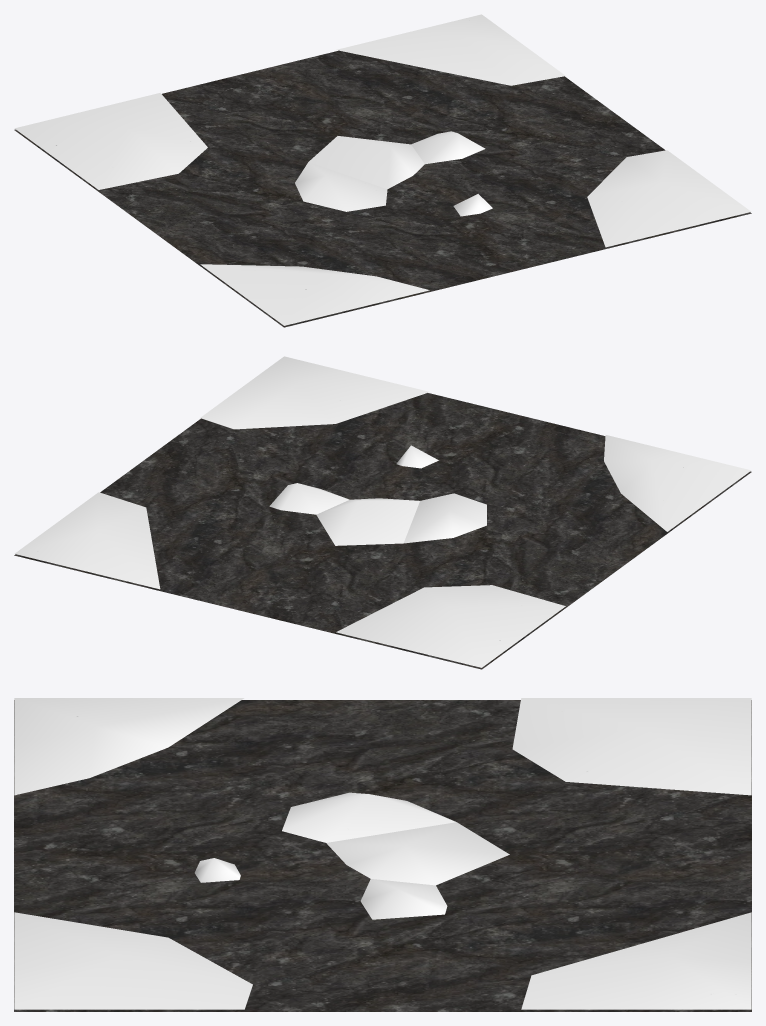
Rendered from garden-07-art.glb.
3 views of the same model, one above another, from view 1: azimuth 30°, elevation 25°; view 2: azimuth 150°, elevation 25°; view 3: azimuth 270°, elevation 25° (orthographic). The views are drawn at different scales.
Parts seen in each view (by area): view 1: Garden_07_Art; view 2: Garden_07_Art; view 3: Garden_07_Art.
Boxes of the visible parts, bbox=[...] form: Garden_07_Art: bbox=[14, 14, 751, 327]; Garden_07_Art: bbox=[14, 356, 751, 669]; Garden_07_Art: bbox=[14, 698, 751, 1011].
Size of the model in its own units: 15.98 by 0.5015 by 15.98.
2 materials, 2 textured.
